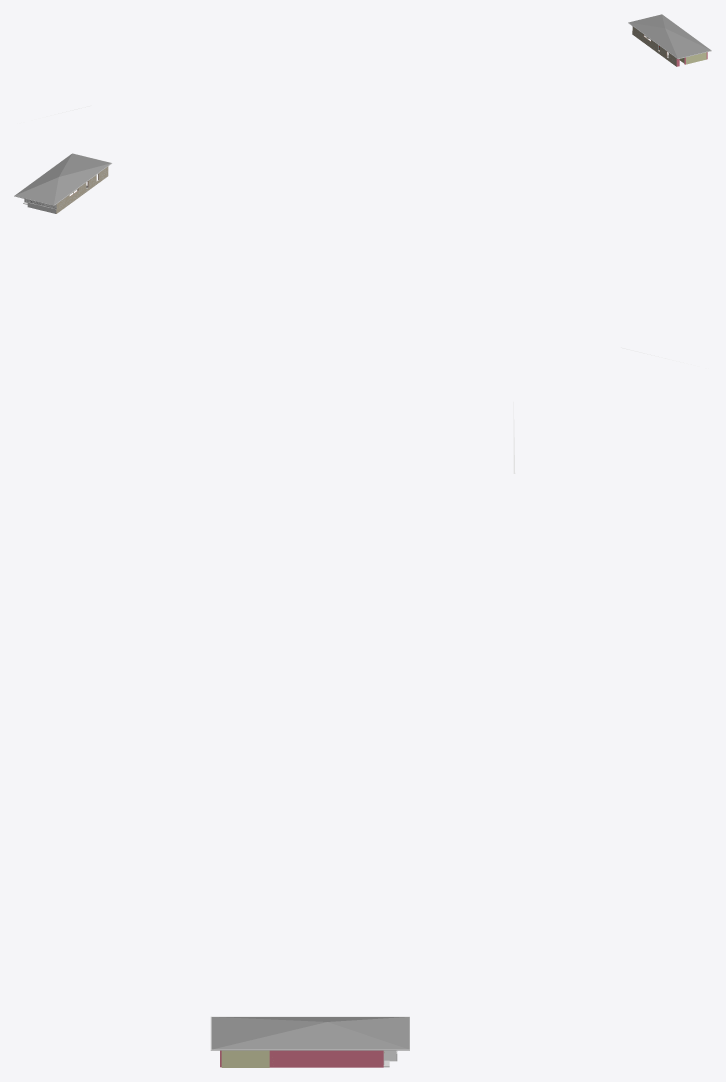
File: indoor3.dae
The picture shows the model from 3 angles, top to bottom: view 1: azimuth 30°, elevation 25°; view 2: azimuth 150°, elevation 25°; view 3: azimuth 270°, elevation 25°; orthographic projection. The views are drawn at different scales.
Visible parts, largest first — view 1: 锥体, SketchUp.181; view 2: 锥体, SketchUp.181; view 3: 锥体, SketchUp.247.
Part boxes in pixels (x1,y1,x2,y2): 锥体: (628,14,710,58); SketchUp.181: (632,26,676,66); 锥体: (14,153,111,205); SketchUp.181: (56,166,108,213); 锥体: (211,1017,409,1049); SketchUp.247: (220,1050,383,1067).
Size of the model in its own units: 189 by 39.96 by 9.32.
